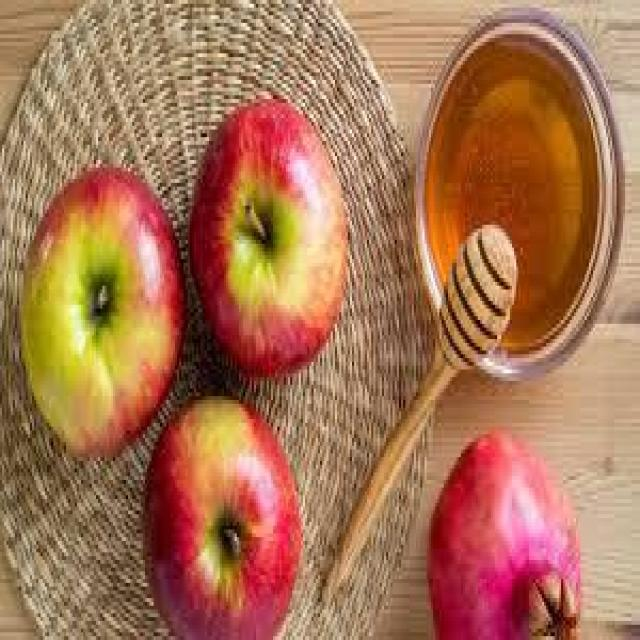maca: (182, 71, 358, 380), (21, 143, 188, 445), (142, 399, 306, 637)
